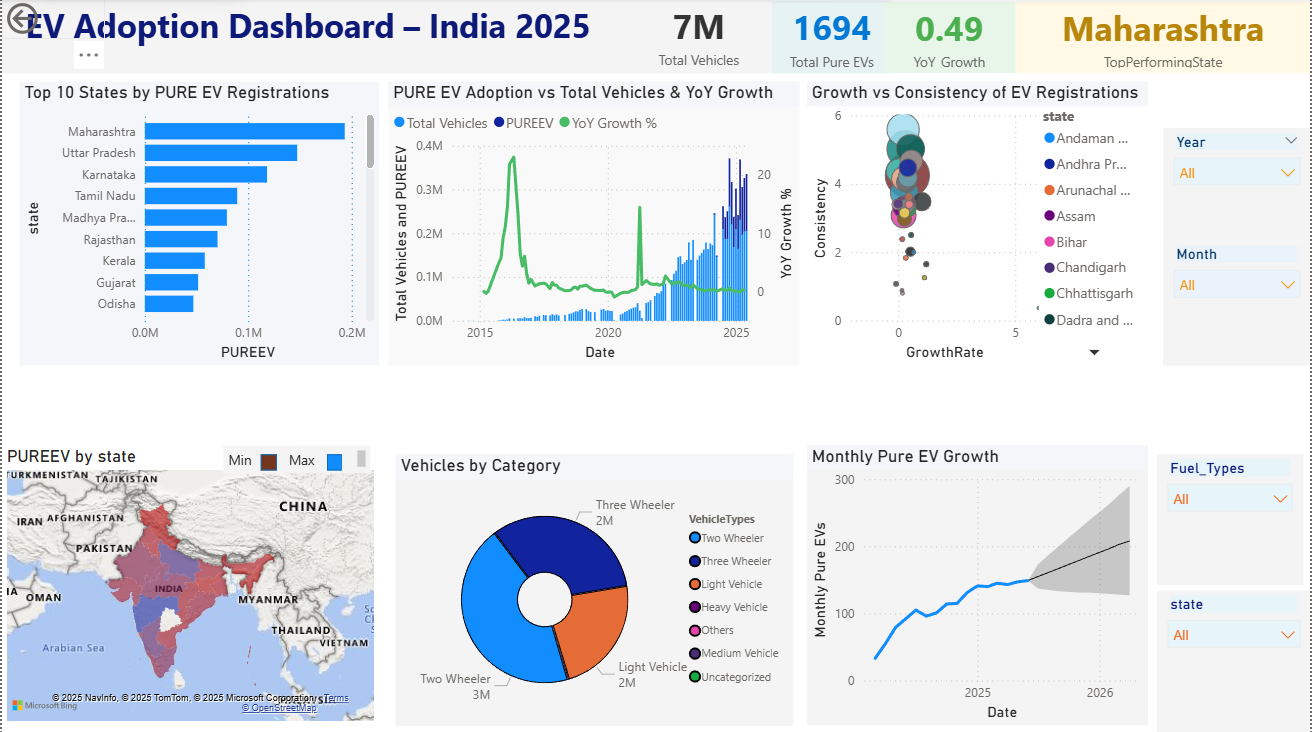

What the dashboard file says about the page in this screenshot:
{"tool":"powerbi","page":{"name":"EV Trend","canvas":[1280,720],"ordinal":0},"visuals":[{"type":"card","fields":{"Values":["ev_vehicle.Total Pure EVs"]},"box":[753.3,2.4,117.4,70.9],"z":0},{"type":"card","fields":{"Values":["ev_vehicle.Total Vehicles"]},"box":[610.2,0,143.1,73.4],"z":1000},{"type":"card","fields":{"Values":["DateTable.YoY_Growth"]},"box":[862.1,3.7,129.6,69.7],"z":2000},{"type":"card","fields":{"Values":["ev_vehicle.TopPerformingState"]},"box":[991.7,3.7,288.6,69.7],"z":3000},{"type":"slicer","fields":{"Values":["DateTable.Month"]},"box":[1136,237.2,144.3,122.3],"z":4000},{"type":"slicer","fields":{"Values":["DateTable.Year"]},"box":[1136,127.2,144.3,110.1],"z":5000},{"type":"lineStackedColumnComboChart","title":"PURE EV Adoption vs Total Vehicles & YoY Growth","fields":{"Category":["DateTable.Date"],"Y":["ev_vehicle.Total Vehicles","ev_vehicle.PUREEV"],"Y2":["DateTable.YoY Growth %"]},"box":[377.9,81.9,402.3,277.6],"z":6000},{"type":"textbox","box":[0,0,610.2,73.4],"z":7000},{"type":"clusteredBarChart","title":"Top 10 States by PURE EV Registrations","fields":{"Category":["ev_vehicle.state"],"Y":["ev_vehicle.PUREEV"]},"box":[17.1,81.9,352.2,277.6],"z":8000},{"type":"lineChart","title":"Monthly Pure EV Growth","fields":{"Y":["ev_vehicle.Monthly Pure EVs"],"Category":["DateTable.Date"]},"box":[787.5,437.8,333.8,273.9],"z":9000},{"type":"scatterChart","title":"Growth vs Consistency of EV Registrations","fields":{"X":["DateTable.GrowthRate"],"Y":["ev_vehicle.Consistency"],"Size":["ev_vehicle.TotalVehicles"],"Series":["ev_vehicle.state"]},"box":[787.5,81.9,333.8,277.6],"z":10000},{"type":"donutChart","title":"\tVehicles by Category","fields":{"Category":["ev_vehicle.VehicleTypes"],"Y":["ev_vehicle.Total Vehicles"]},"box":[385.2,446.3,388.9,265.4],"z":11000},{"type":"slicer","fields":{"Values":["ev_vehicle.state"]},"box":[1129.9,579.6,150.4,140.6],"z":12000},{"type":"slicer","fields":{"Values":["ev_vehicle.Fuel_Cleaned"]},"box":[1129.9,446.3,143.1,128.4],"z":13000},{"type":"filledMap","fields":{"Category":["ev_vehicle.state"]},"box":[0,437.8,369.3,273.9],"z":14000},{"type":"textbox","box":[216.4,437.8,144.3,26.9],"z":15000},{"type":"shape","box":[253.1,446.3,15.9,15.9],"z":16000},{"type":"shape","box":[317.9,446.3,14.7,15.9],"z":17000},{"type":"actionButton","box":[0,0,100,40],"z":18000}]}

Visuals, with their boxes in screenshot pixels (x1, y1, x2, y2), scaled from the page's 1280x720 canvas onto the 1312x732 screenshot:
card - ev_vehicle.Total Pure EVs: (772, 2, 892, 75)
card - ev_vehicle.Total Vehicles: (625, 0, 772, 75)
card - DateTable.YoY_Growth: (884, 4, 1016, 75)
card - ev_vehicle.TopPerformingState: (1016, 4, 1311, 75)
slicer - DateTable.Month: (1164, 241, 1311, 365)
slicer - DateTable.Year: (1164, 129, 1311, 241)
"PURE EV Adoption vs Total Vehicles & YoY Growth" lineStackedColumnComboChart: (387, 83, 800, 365)
textbox: (0, 0, 625, 75)
"Top 10 States by PURE EV Registrations" clusteredBarChart: (18, 83, 379, 365)
"Monthly Pure EV Growth" lineChart: (807, 445, 1149, 724)
"Growth vs Consistency of EV Registrations" scatterChart: (807, 83, 1149, 365)
"	Vehicles by Category" donutChart: (395, 454, 793, 724)
slicer - ev_vehicle.state: (1158, 589, 1311, 731)
slicer - ev_vehicle.Fuel_Cleaned: (1158, 454, 1305, 584)
filledMap - ev_vehicle.state: (0, 445, 379, 724)
textbox: (222, 445, 370, 472)
shape: (259, 454, 276, 470)
shape: (326, 454, 341, 470)
actionButton: (0, 0, 102, 41)
